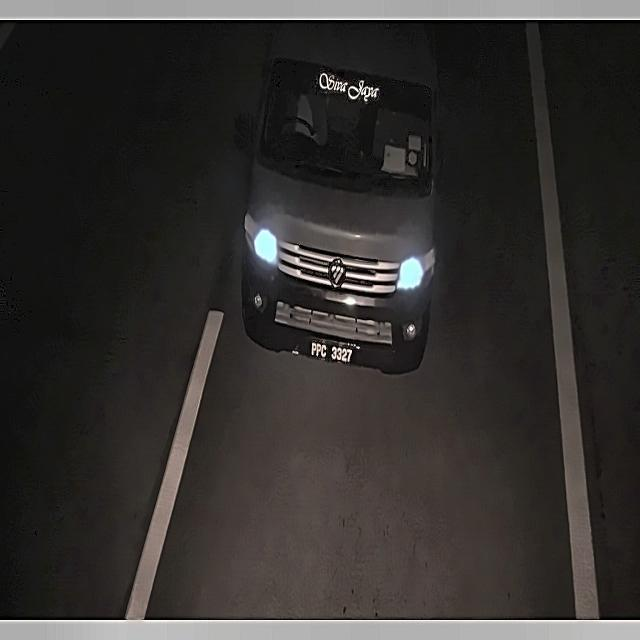car: (299, 332, 361, 368)
